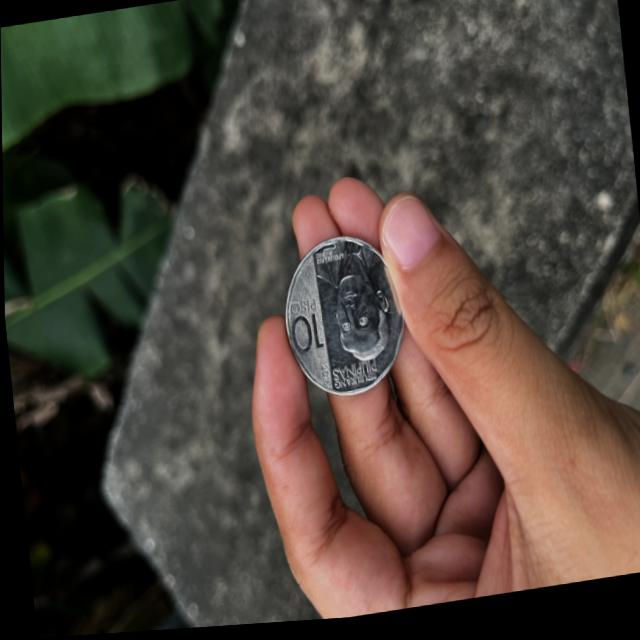10_New_Front: (276, 294, 330, 371)
